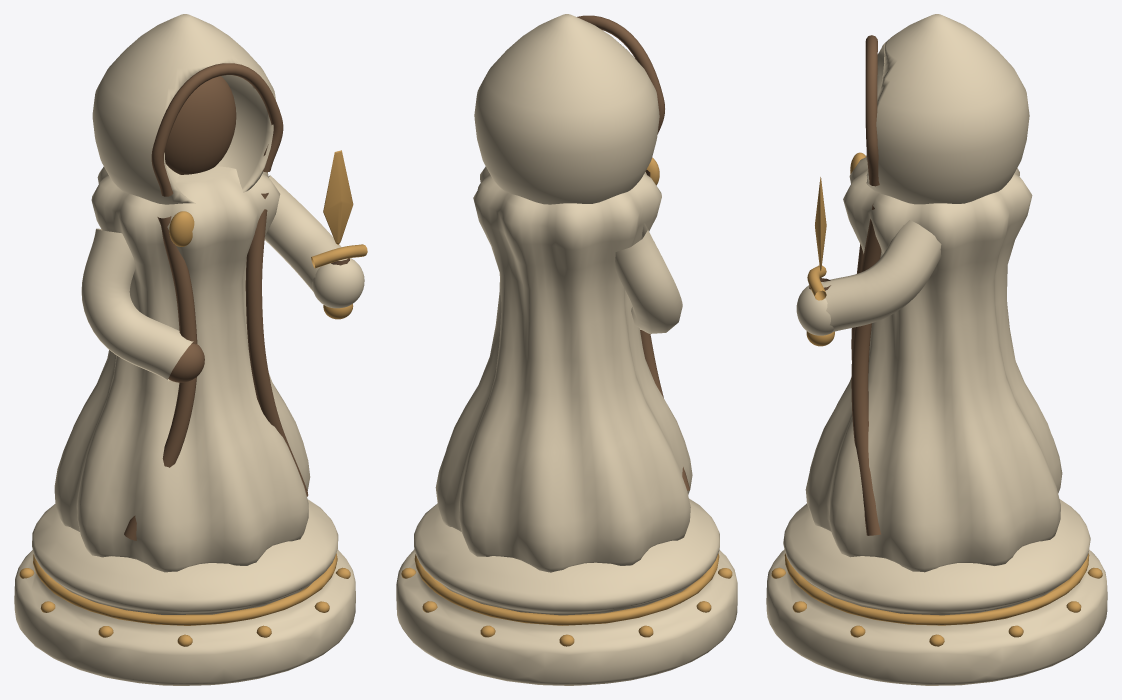
File: assasin.glb
The picture shows the model from 3 angles, left to right: view 1: azimuth 30°, elevation 25°; view 2: azimuth 150°, elevation 25°; view 3: azimuth 270°, elevation 25°; orthographic projection.
Visible parts, largest first — view 1: PIECE_Assasin_Sculpture, PIECE_Assasin_Base; view 2: PIECE_Assasin_Sculpture, PIECE_Assasin_Base; view 3: PIECE_Assasin_Sculpture, PIECE_Assasin_Base.
Boxes of the visible parts, x1,y1,x2,y2 form: PIECE_Assasin_Sculpture: (54, 14, 367, 572); PIECE_Assasin_Base: (14, 499, 355, 685); PIECE_Assasin_Sculpture: (435, 14, 692, 572); PIECE_Assasin_Base: (396, 498, 737, 685); PIECE_Assasin_Sculpture: (796, 14, 1062, 572); PIECE_Assasin_Base: (766, 499, 1107, 685).
Bounding box in the file's own units: 0.719 × 1.4 × 0.719.
